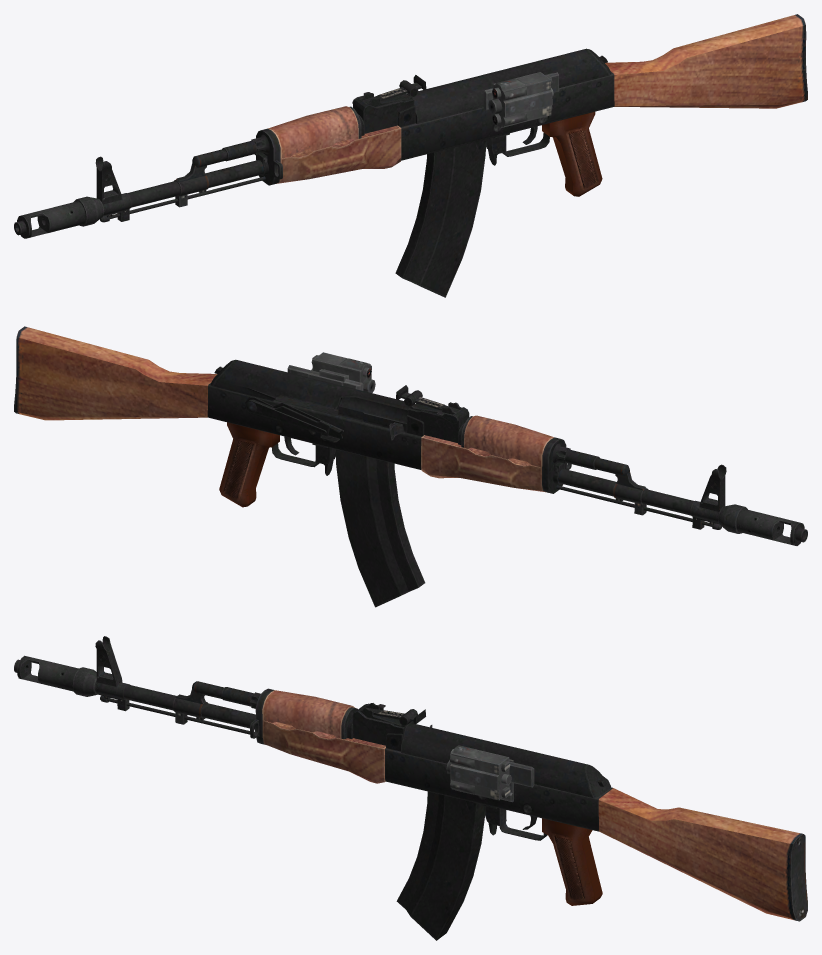
3 views of the same model, one above another, from view 1: azimuth 30°, elevation 25°; view 2: azimuth 150°, elevation 25°; view 3: azimuth 330°, elevation 25° (orthographic).
Visible parts, largest first — view 1: DrawCall_0931, DrawCall_0932, DrawCall_0933; view 2: DrawCall_0931, DrawCall_0932, DrawCall_0933; view 3: DrawCall_0931, DrawCall_0932, DrawCall_0933.
Part boxes in pixels (x1=…): DrawCall_0931: x1=14, y1=14, x2=807, y2=238; DrawCall_0932: x1=352, y1=48, x2=614, y2=297; DrawCall_0933: x1=483, y1=72, x2=559, y2=128; DrawCall_0931: x1=14, y1=326, x2=807, y2=545; DrawCall_0932: x1=207, y1=359, x2=469, y2=607; DrawCall_0933: x1=287, y1=352, x2=375, y2=392; DrawCall_0931: x1=14, y1=636, x2=807, y2=921; DrawCall_0932: x1=352, y1=703, x2=612, y2=940; DrawCall_0933: x1=446, y1=745, x2=534, y2=802.
Bounding box in the file's own units: 99.43 × 26.69 × 10.07.
